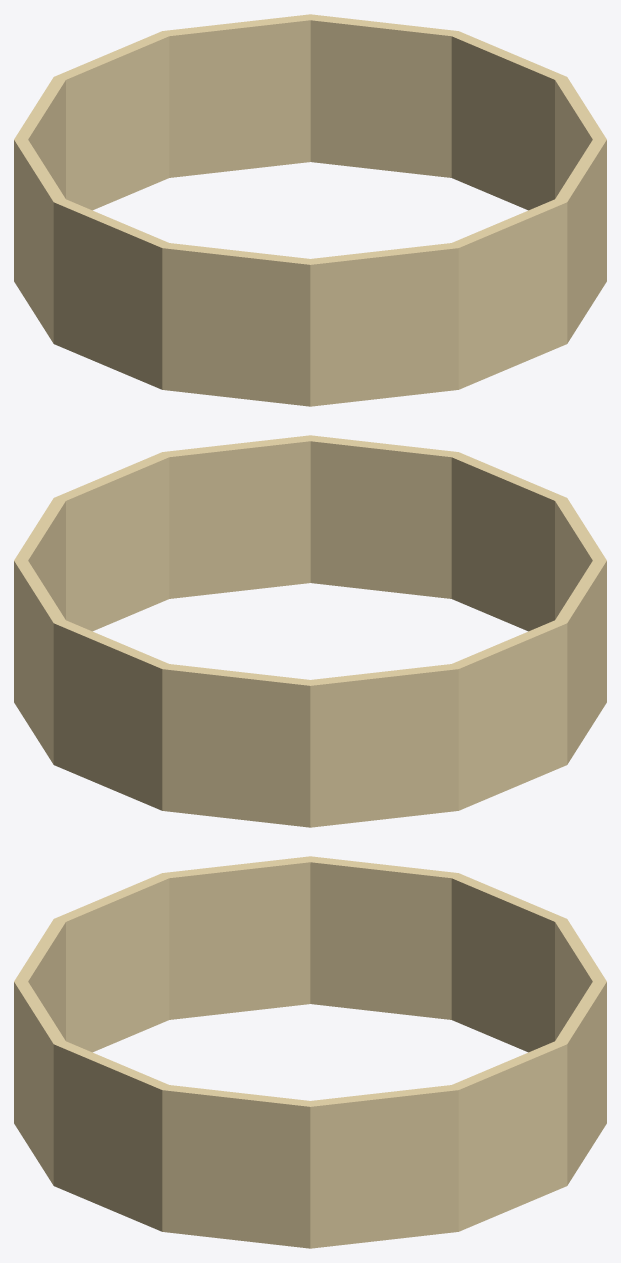
Rendered from pantheon walls hitbox.fbx.
3 views of the same model, one above another, from view 1: azimuth 30°, elevation 25°; view 2: azimuth 150°, elevation 25°; view 3: azimuth 270°, elevation 25° (orthographic).
Visible parts, largest first — view 1: Circle; view 2: Circle; view 3: Circle.
Part boxes in pixels (left/top/right/bottom): Circle: left=14, top=14, right=606, bottom=406; Circle: left=14, top=435, right=606, bottom=827; Circle: left=14, top=856, right=606, bottom=1248.
Bounding box in the file's own units: 6300 × 1662 × 6300.
